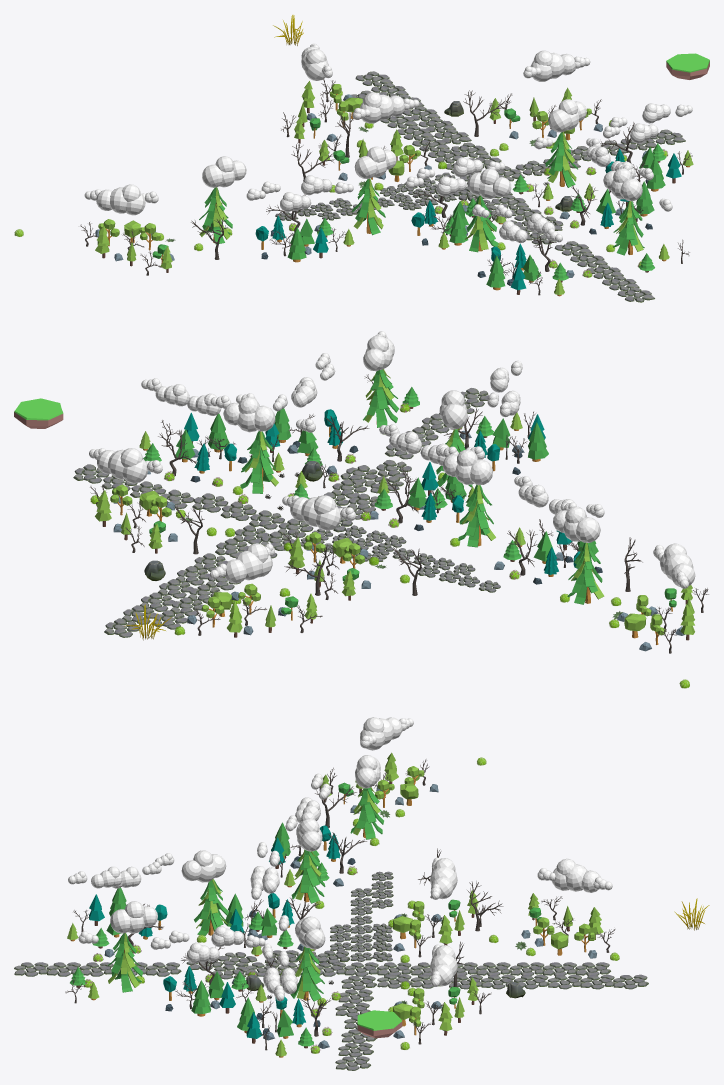
Rendered from Ultimo_refugio.glb.
The picture shows the model from 3 angles, top to bottom: view 1: azimuth 30°, elevation 25°; view 2: azimuth 150°, elevation 25°; view 3: azimuth 270°, elevation 25°; orthographic projection. The views are drawn at different scales.
Visible parts, largest first — view 1: group601634601.015, group874600975.002, group1795976569.001, group874600975.003, group601634601.007, group874600975, group601634601.024, group1795976569.004, group1795976569, group874600975.001, group874600975.004, GrassPlatform_Cylinder.001 (+7 smaller); view 2: group601634601.007, group601634601.024, group1795976569.002, group601634601.027, group1795976569, group874600975.001, group874600975.002, group874600975, group1795976569.001, group874600975.003, GrassPlatform_Cylinder.001, group601634601.015 (+4 smaller); view 3: group874600975.003, group601634601.027, group1795976569.003, group874600975.004, group874600975, group874600975.002, group1795976569.004, group874600975.001, GrassPlatform_Cylinder.001, group601634601.015, group601634601.007, group601634601.024 (+3 smaller).
Boxes of the visible parts, <box> form: group601634601.015: <box>96,184,145,215</box>; group874600975.002: <box>545,132,577,187</box>; group1795976569.001: <box>202,156,246,187</box>; group874600975.003: <box>613,201,644,255</box>; group601634601.007: <box>360,92,404,123</box>; group874600975: <box>352,178,385,235</box>; group601634601.024: <box>530,50,575,81</box>; group1795976569.004: <box>467,168,511,198</box>; group1795976569: <box>354,146,396,179</box>; group874600975.001: <box>199,187,232,244</box>; group874600975.004: <box>465,195,498,252</box>; GrassPlatform_Cylinder.001: <box>666,53,709,79</box>; group601634601.007: <box>290,495,341,530</box>; group601634601.024: <box>97,448,148,483</box>; group1795976569.002: <box>223,397,275,432</box>; group601634601.027: <box>225,543,272,583</box>; group1795976569: <box>442,449,492,485</box>; group874600975.001: <box>567,542,604,604</box>; group874600975.002: <box>240,431,278,493</box>; group874600975: <box>458,485,495,547</box>; group1795976569.001: <box>553,506,600,542</box>; group874600975.003: <box>363,369,398,427</box>; GrassPlatform_Cylinder.001: <box>14,398,63,428</box>; group601634601.015: <box>660,543,695,586</box>; group874600975.003: <box>108,933,142,992</box>; group601634601.027: <box>552,858,600,892</box>; group1795976569.003: <box>110,901,157,933</box>; group874600975.004: <box>194,879,228,935</box>; group874600975: <box>291,849,325,903</box>; group874600975.002: <box>290,946,324,1001</box>; group1795976569.004: <box>181,850,226,882</box>; group874600975.001: <box>350,787,383,839</box>; GrassPlatform_Cylinder.001: <box>357,1010,402,1038</box>; group601634601.015: <box>360,717,402,750</box>; group601634601.007: <box>430,858,457,899</box>; group601634601.024: <box>430,945,457,986</box>.
Size of what is drawn, in the model's own units: 10.73 by 1.34 by 9.62.
Materials: 17 (7 with a texture image).
